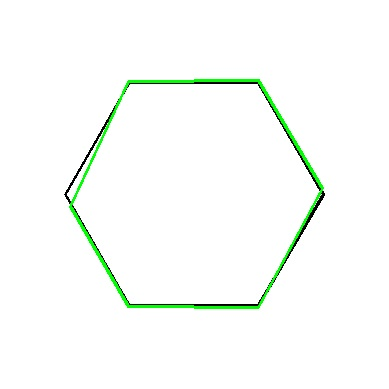line_segment: (64, 80, 326, 308)
